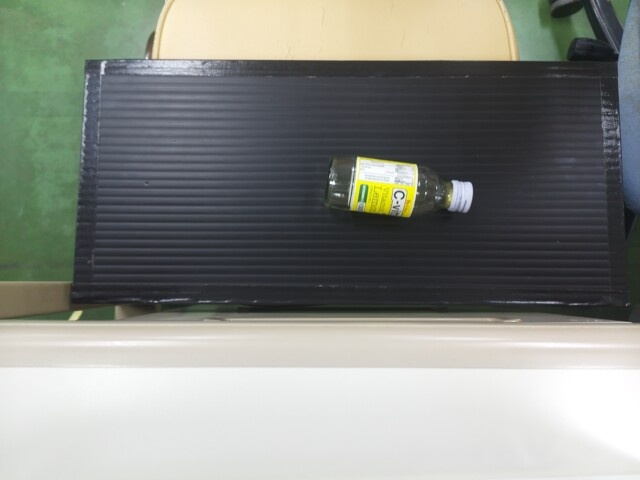glass_bottle: (321, 158, 472, 218)
